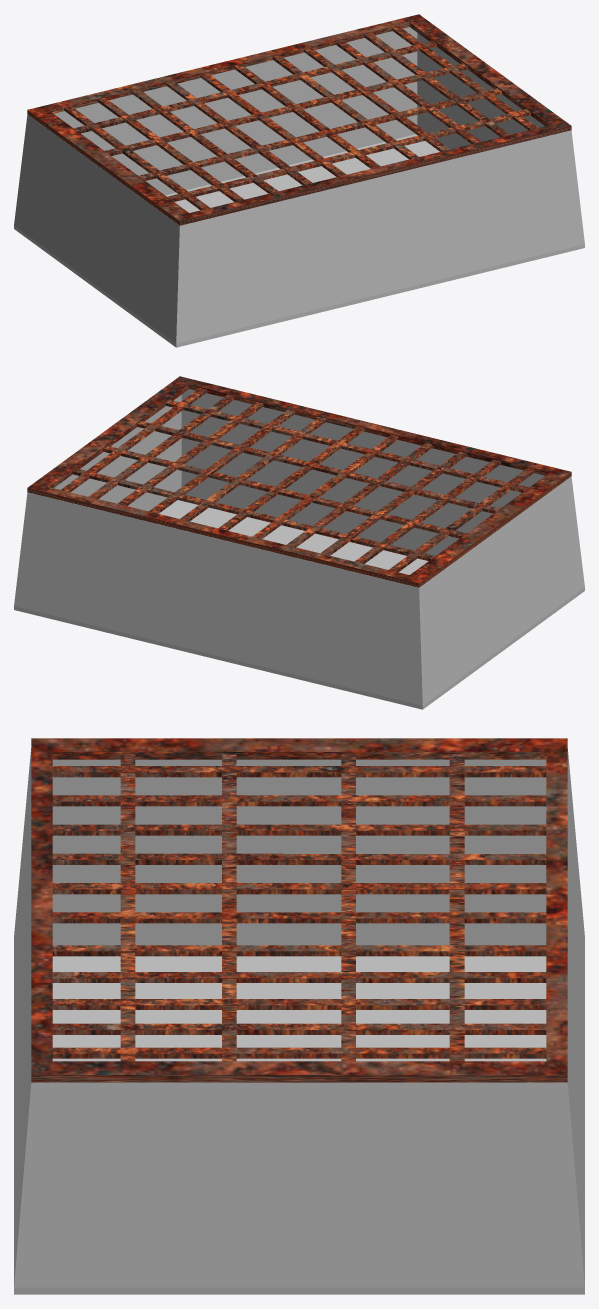
Rendered from toolBox.fbx.
3 renders of one model, top to bottom at view 1: azimuth 30°, elevation 25°; view 2: azimuth 150°, elevation 25°; view 3: azimuth 270°, elevation 25°, orthographic. The views are drawn at different scales.
Visible parts, largest first — view 1: Cube, Cube.001; view 2: Cube, Cube.001; view 3: Cube, Cube.001.
Part boxes in pixels (<box>): Cube: <box>14,27,584,347</box>; Cube.001: <box>27,14,571,225</box>; Cube: <box>14,389,584,709</box>; Cube.001: <box>27,376,571,587</box>; Cube: <box>14,748,584,1294</box>; Cube.001: <box>31,738,567,1082</box>.
Size of the model in its own units: 960 by 271 by 660.
